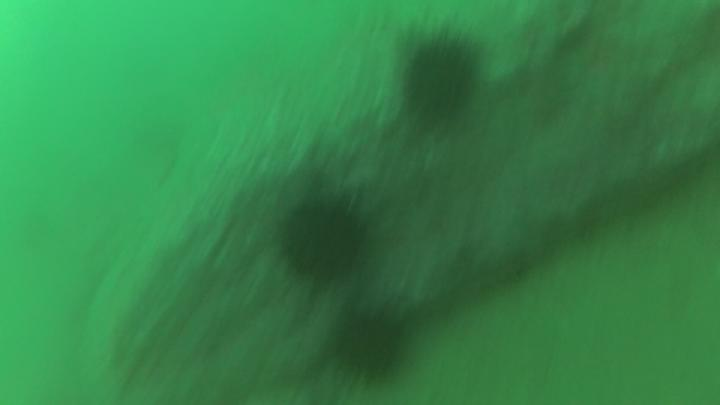echinus: (284, 204, 364, 278), (404, 42, 473, 121), (339, 316, 400, 378)
